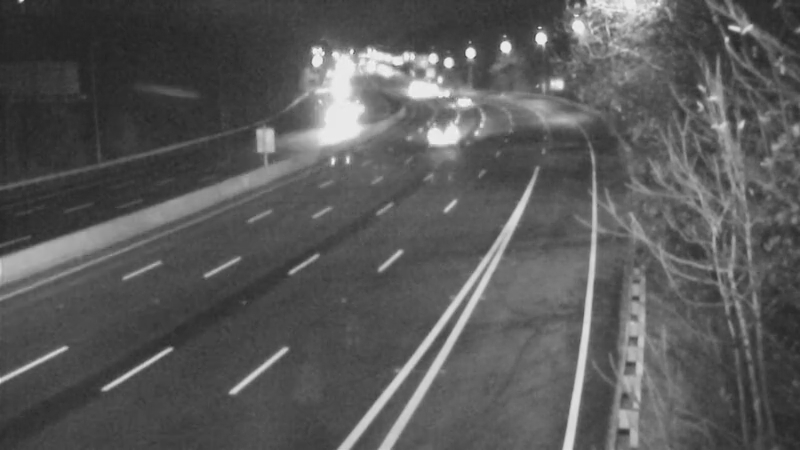vehicle: (390, 67, 440, 117), (419, 70, 469, 120), (433, 78, 483, 128), (419, 108, 469, 158), (311, 98, 361, 148)
